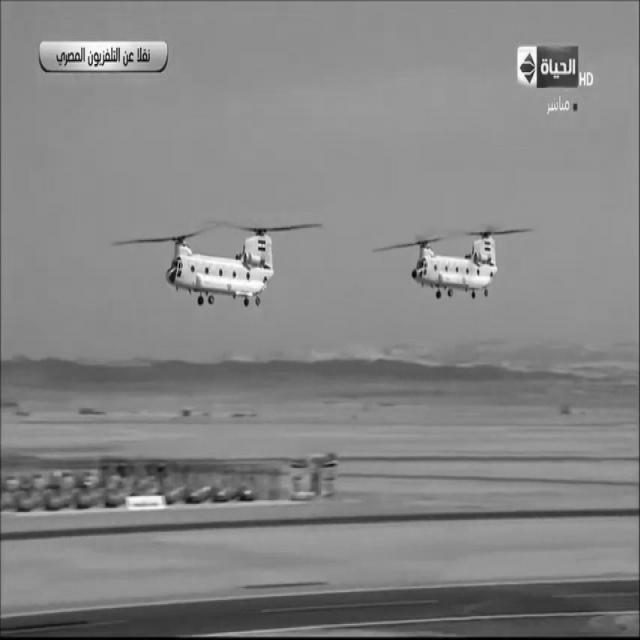helikopter: (152, 206, 298, 314), (389, 194, 511, 314)
